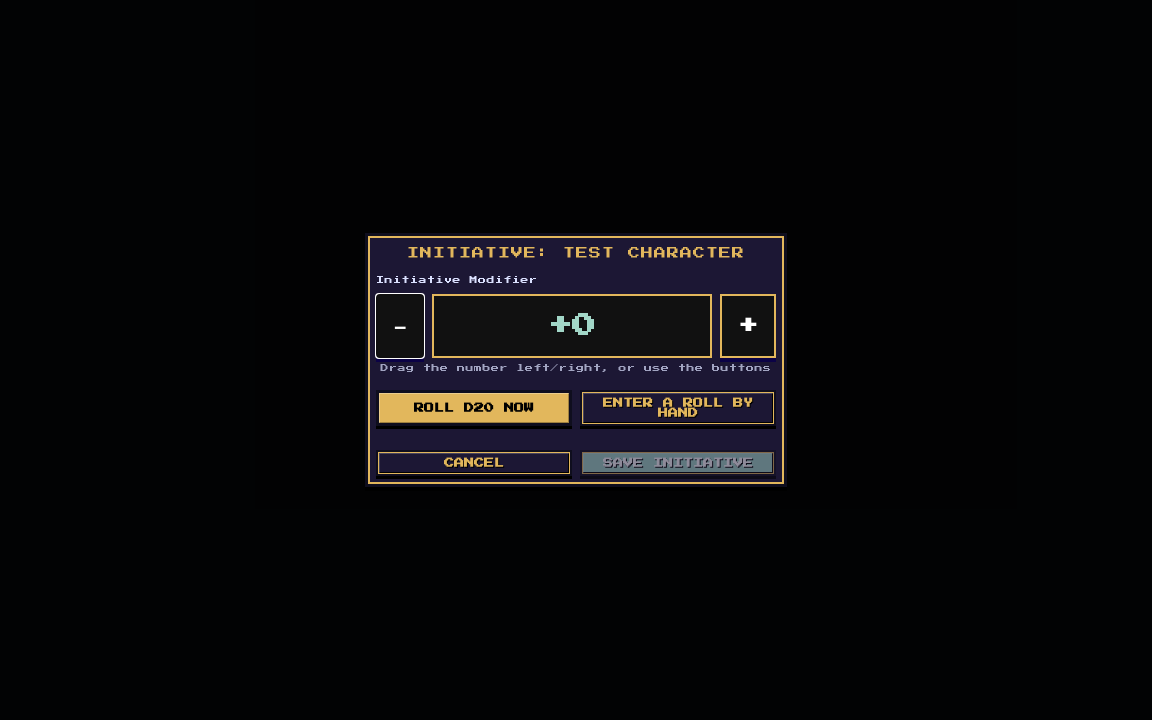
Test: InitiativeModal - Modifier Drag Interaction › moving left decreases modifier (10px = -1)
This screenshot has width=1152, height=720.
Press the mouse on the text "+0": (572, 326) [432, 294, 712, 358]
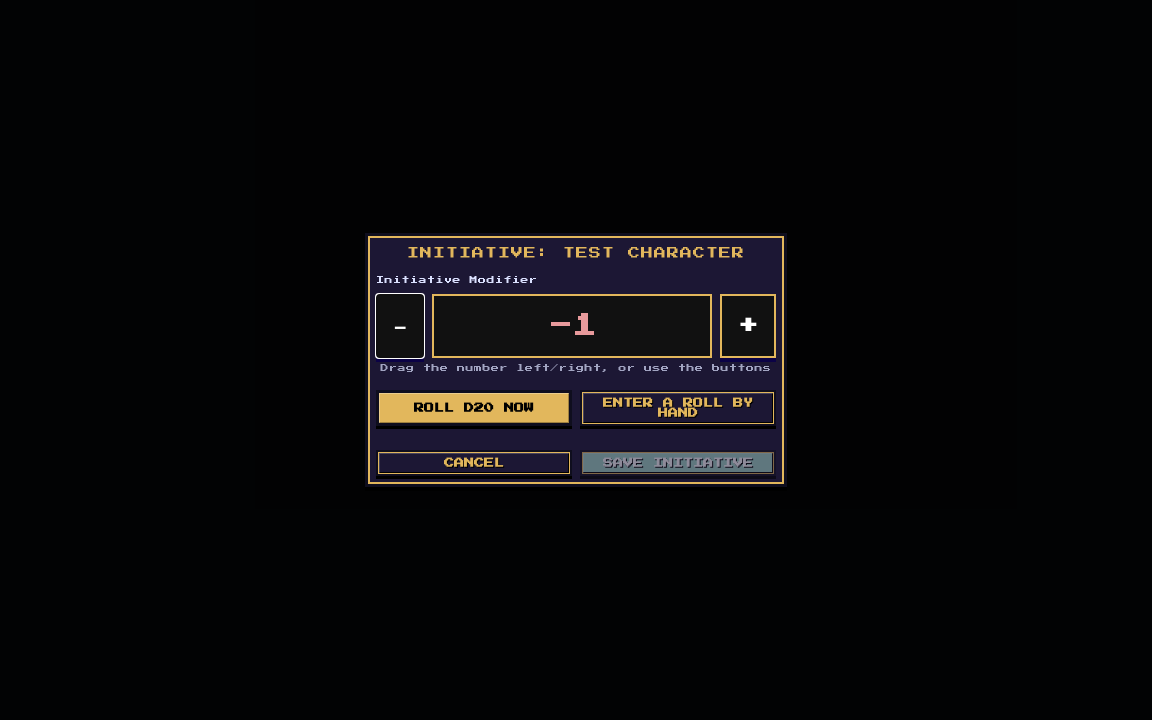
Expected: the text "-1" is shown, [432, 294, 712, 358]
